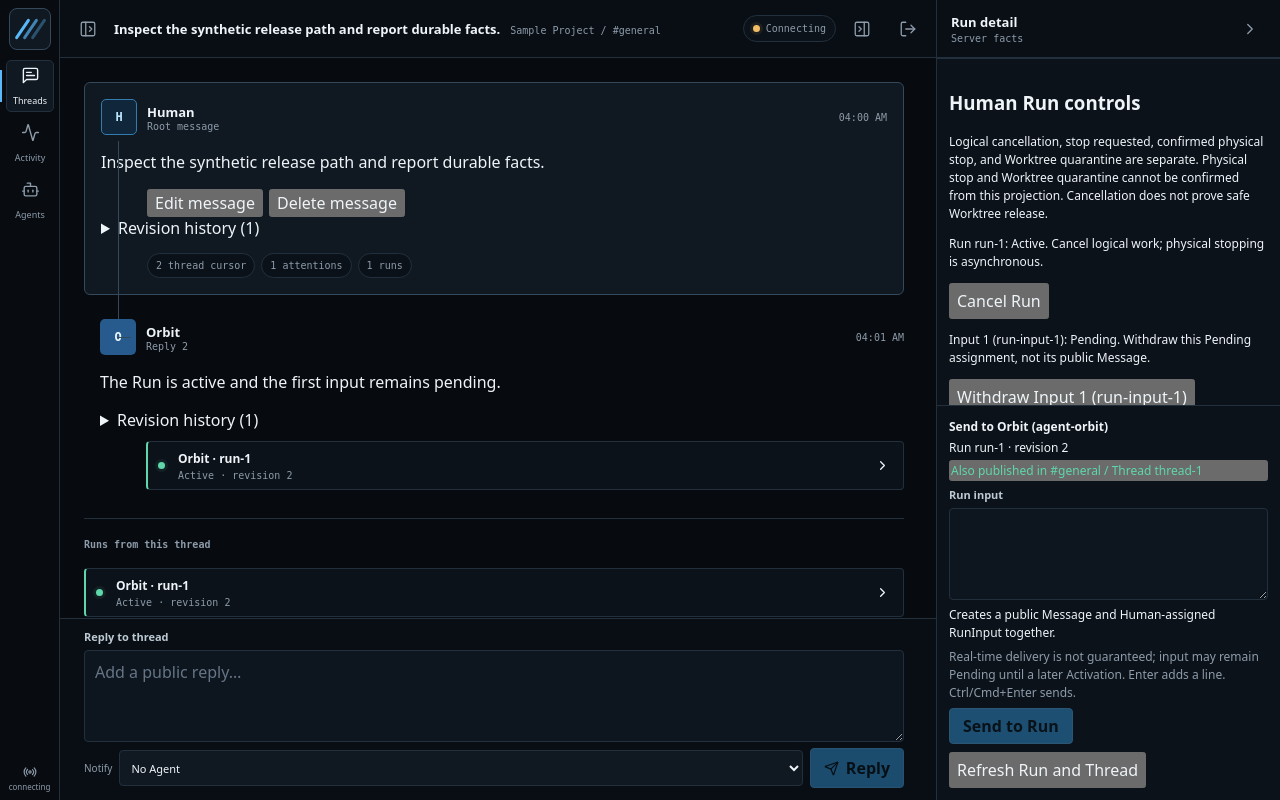
Test: Rendered Human cancel controls (MVP 44.2.1) › reports stale_revision without claiming a commit and requires refresh
The image size is (1280, 800).
Click the button "Cancel Run".
click(999, 301)  # box x1=949 y1=283 x2=1049 y2=319
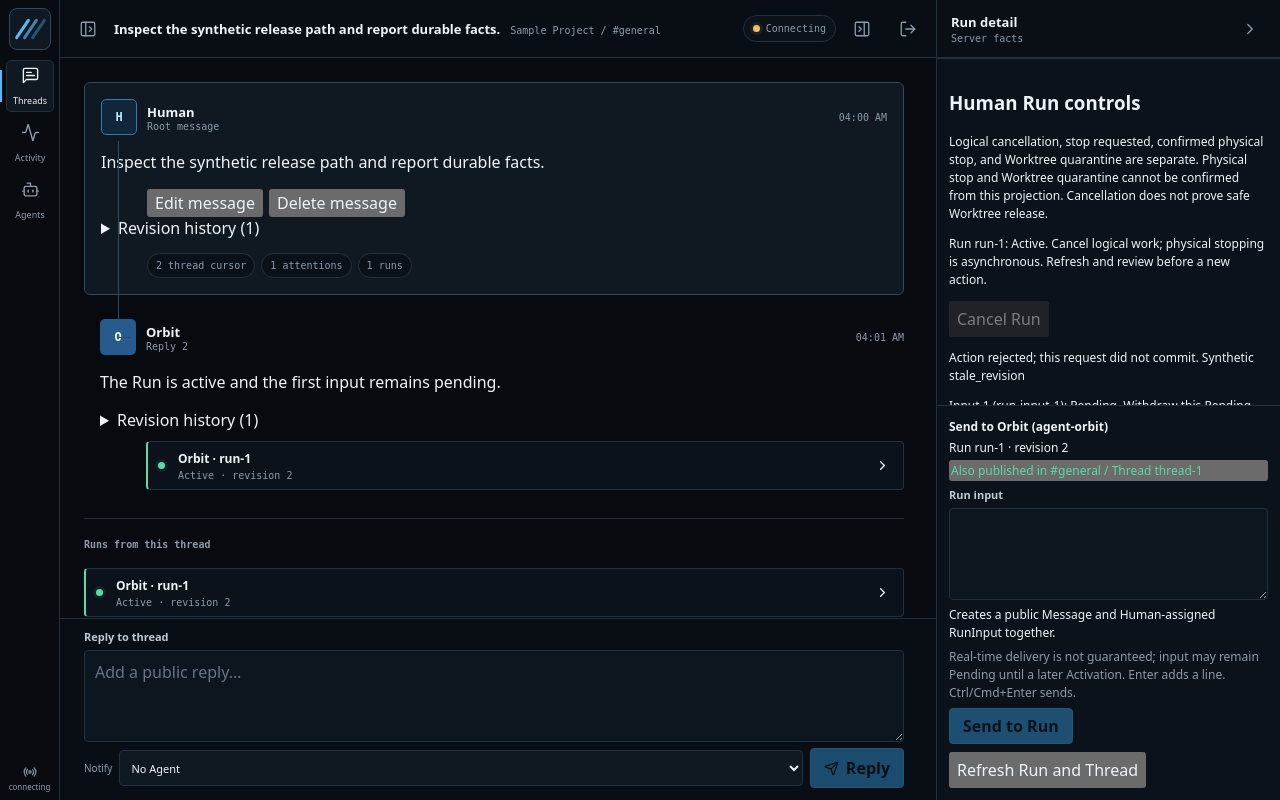
expect the message "Action rejected; this request did not commit. Synthetic stale_revision" is shown: met, box x1=949 y1=349 x2=1268 y2=385
expect the button "Cancel Run" is disabled: met, box x1=949 y1=301 x2=1049 y2=337
expect the element "Human Run controls" shows "Refresh and review": met, box x1=949 y1=253 x2=1230 y2=288
